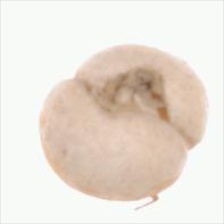L1: (87, 67, 172, 126)
L2: (39, 43, 208, 202)
